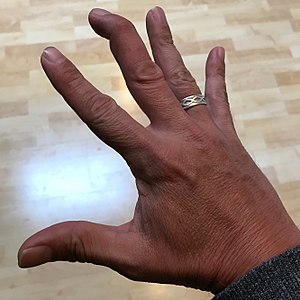finger: (39, 44, 143, 171), (88, 6, 179, 124), (141, 3, 208, 107), (202, 40, 237, 120)
